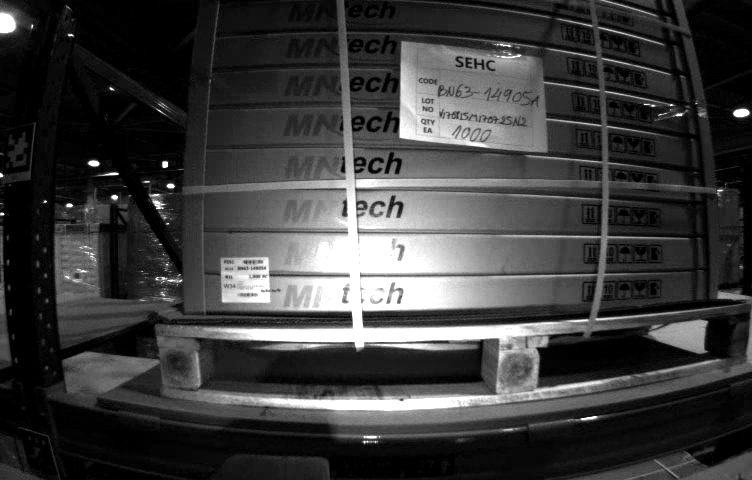True Barcode: (220, 257, 271, 303)
